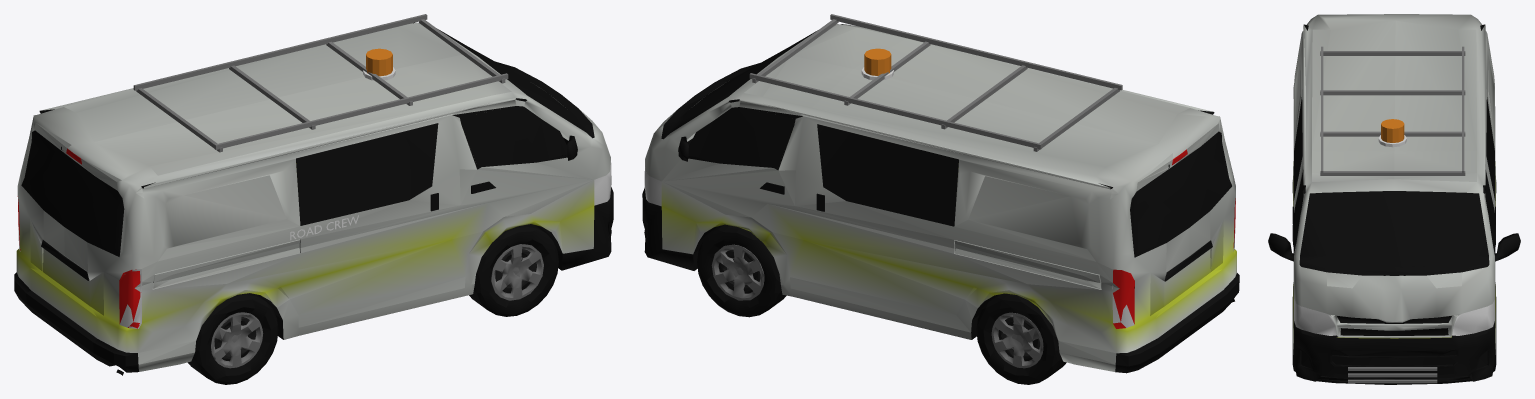
Rendered from roads-crew-van.glb.
3 renders of one model, left to right at view 1: azimuth 30°, elevation 25°; view 2: azimuth 150°, elevation 25°; view 3: azimuth 270°, elevation 25°, orthographic. The views are drawn at different scales.
Visible parts, largest first — view 1: MunicipalConeVanBody, Beacon; view 2: MunicipalConeVanBody, Beacon; view 3: MunicipalConeVanBody, Beacon.
Part boxes in pixels (x1,y1,x2,y2): MunicipalConeVanBody: [14, 14, 613, 384]; Beacon: [366, 48, 392, 76]; MunicipalConeVanBody: [642, 14, 1239, 384]; Beacon: [864, 48, 891, 75]; MunicipalConeVanBody: [1268, 14, 1520, 384]; Beacon: [1381, 119, 1404, 142].
Bounding box in the file's own units: 5.36 × 2.37 × 2.58.
